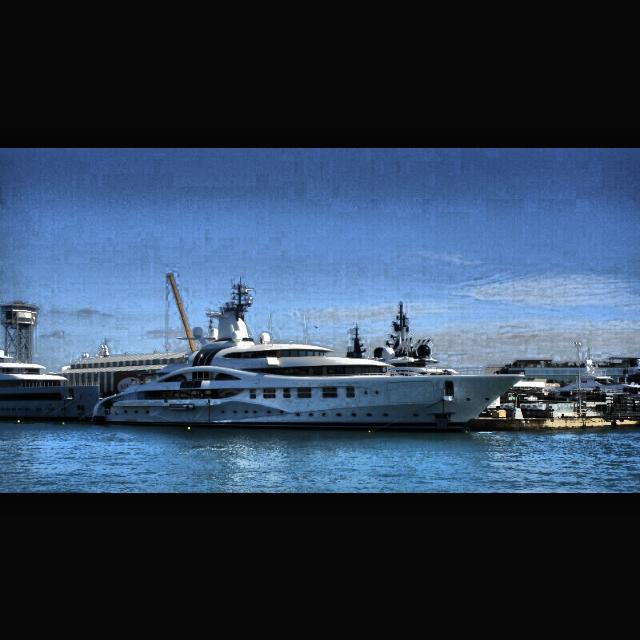yacht: (90, 278, 526, 434)
